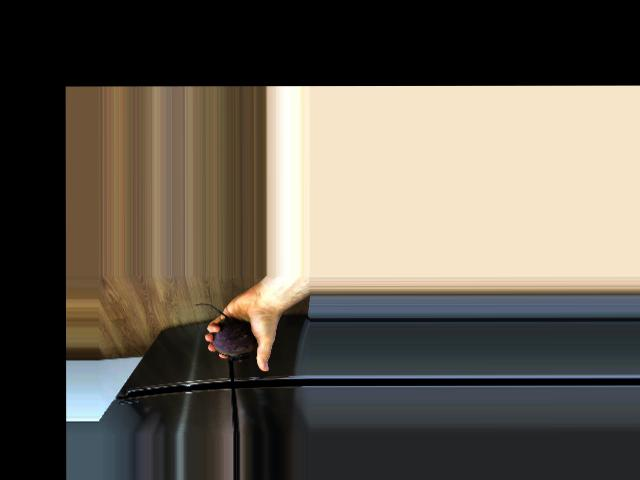beet: (193, 303, 256, 361)
